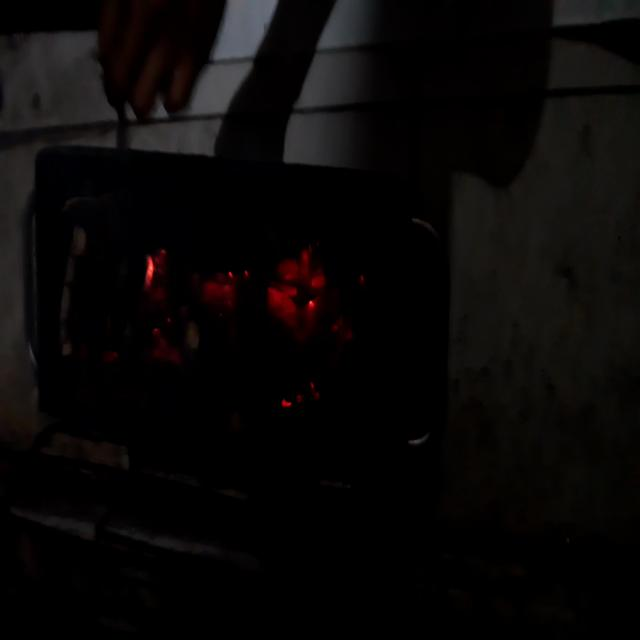Fire: (135, 238, 349, 415)
